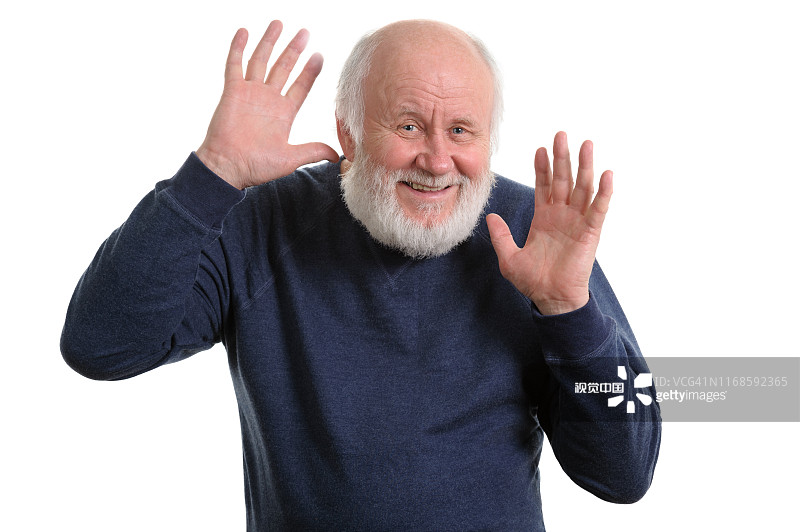no-phone: (483, 119, 632, 321), (200, 4, 347, 197)
